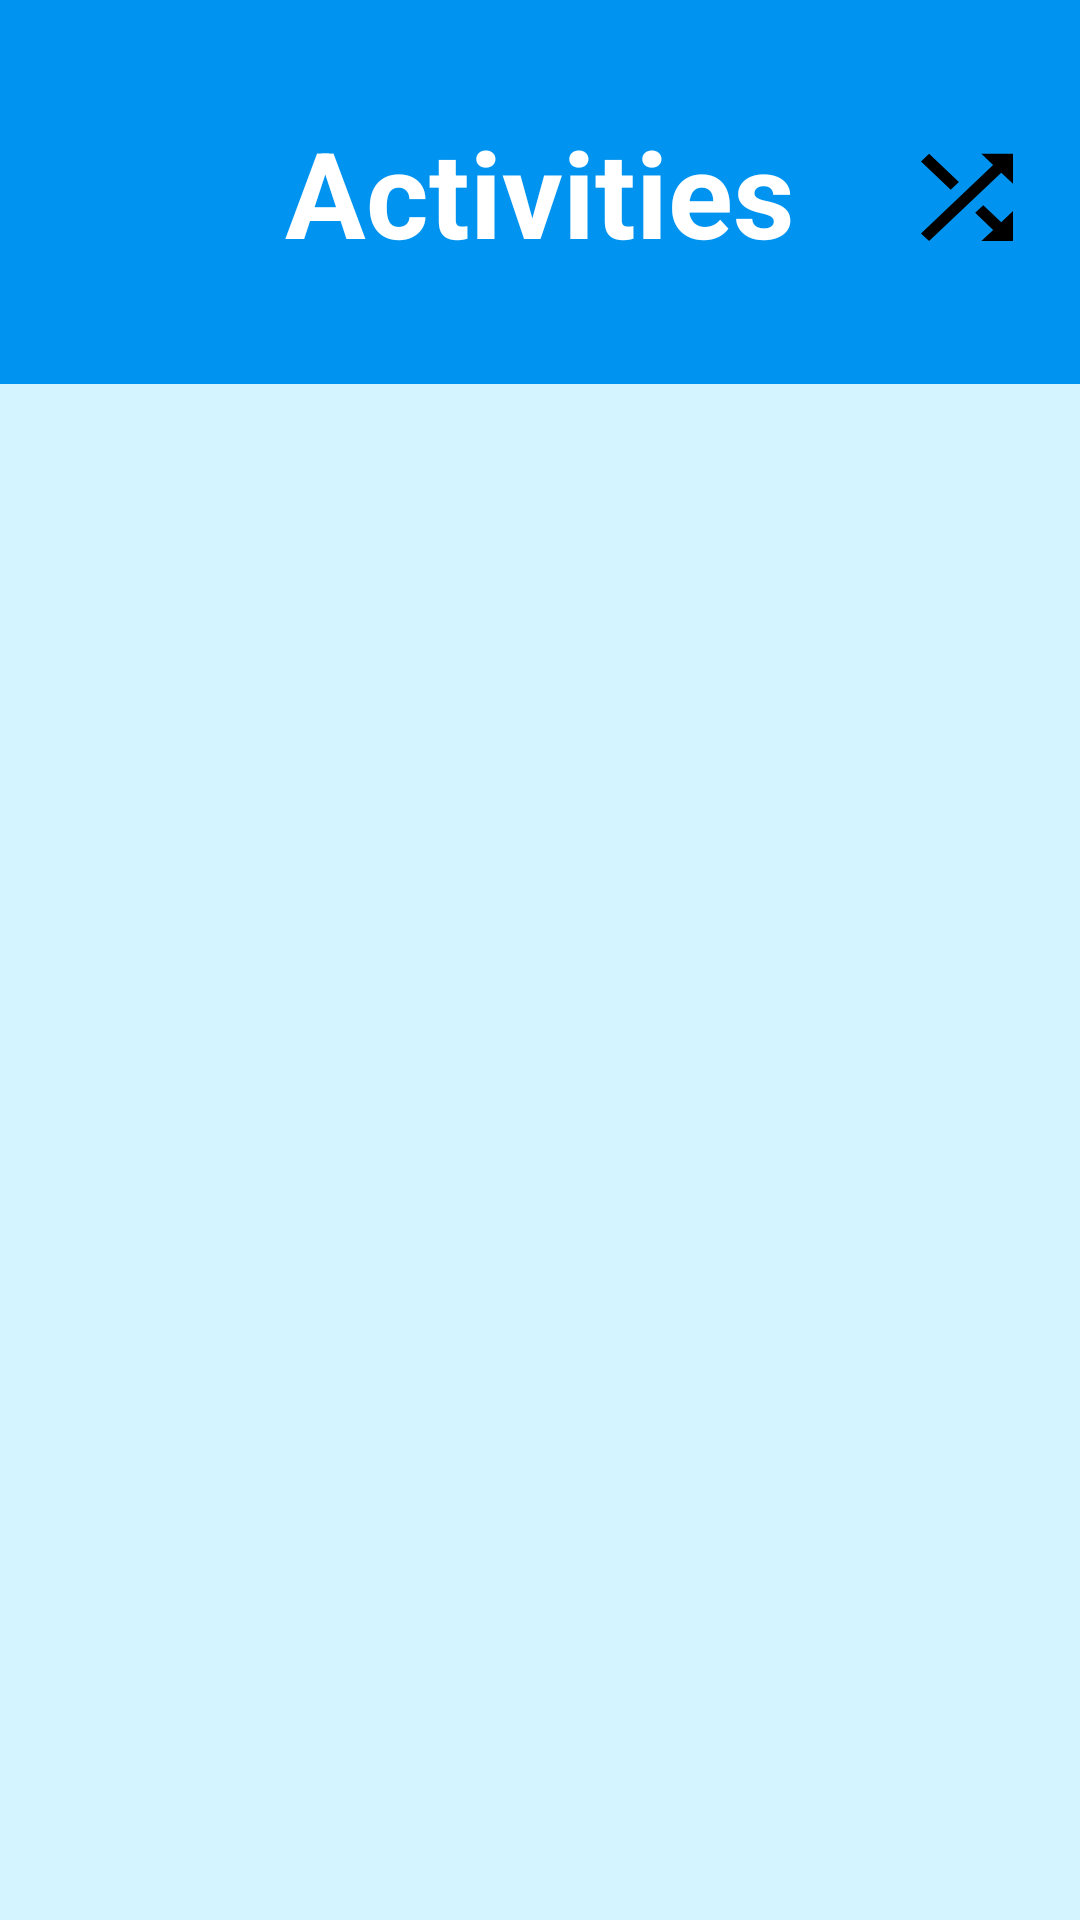

Screen size 1080 x 1920. Icon name, then its box in pixels as (x1, y1, x2, y2):
shuffle: (921, 153, 1013, 241)
